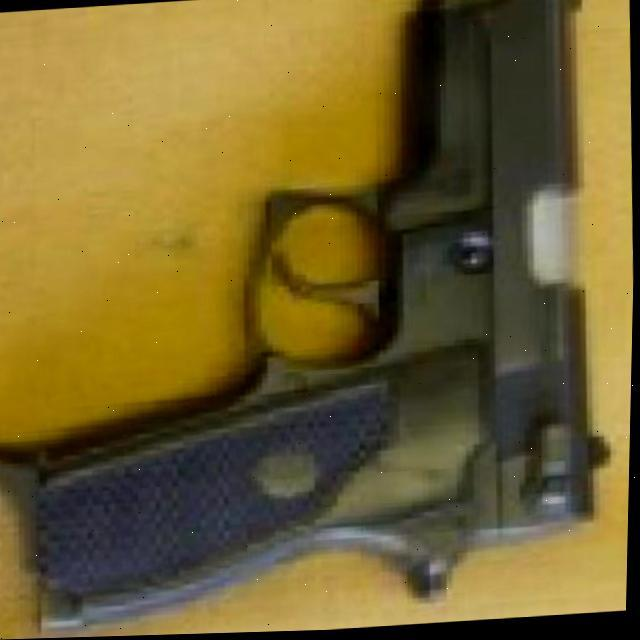gun: (0, 0, 630, 621)
